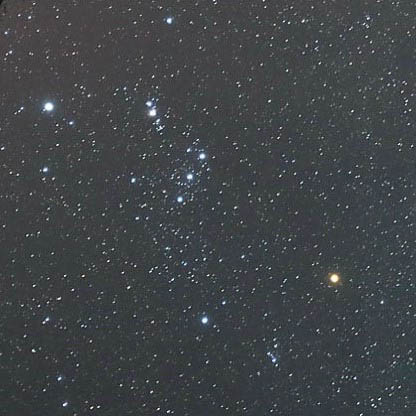Orion: (160, 8, 183, 36), (321, 264, 343, 292), (166, 188, 188, 215), (38, 98, 60, 122), (193, 307, 214, 332), (192, 143, 212, 168), (178, 166, 199, 188)
